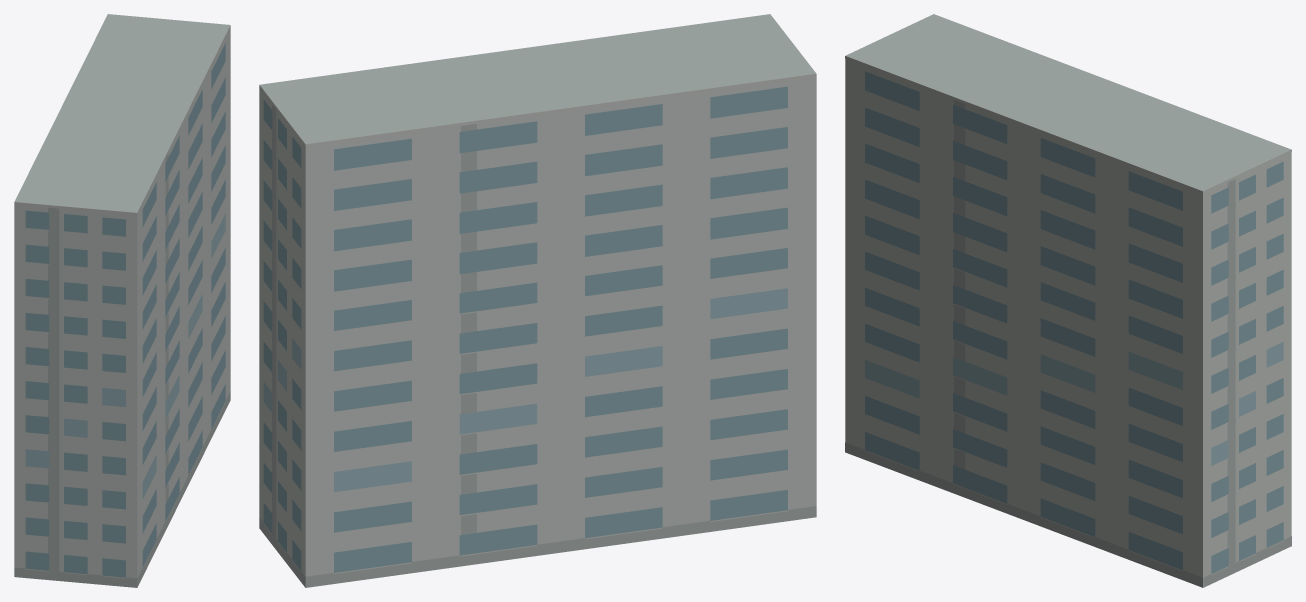
File: residential-ea8ea196-6449-4947-80ec-40fea73e8ed9.glb
3 views of the same model, side by side, from view 1: azimuth 30°, elevation 25°; view 2: azimuth 150°, elevation 25°; view 3: azimuth 270°, elevation 25° (orthographic). The views are drawn at different scales.
Visible parts, largest first — view 1: residential-ea8ea196-6449-4947-80ec-40fea73e8ed9.tmp; view 2: residential-ea8ea196-6449-4947-80ec-40fea73e8ed9.tmp; view 3: residential-ea8ea196-6449-4947-80ec-40fea73e8ed9.tmp.
Boxes of the visible parts, x1,y1,x2,y2 form: residential-ea8ea196-6449-4947-80ec-40fea73e8ed9.tmp: (14, 14, 230, 587); residential-ea8ea196-6449-4947-80ec-40fea73e8ed9.tmp: (259, 14, 816, 587); residential-ea8ea196-6449-4947-80ec-40fea73e8ed9.tmp: (845, 14, 1291, 587).
Bounding box in the file's own units: 33.58 × 35 × 35.73.
